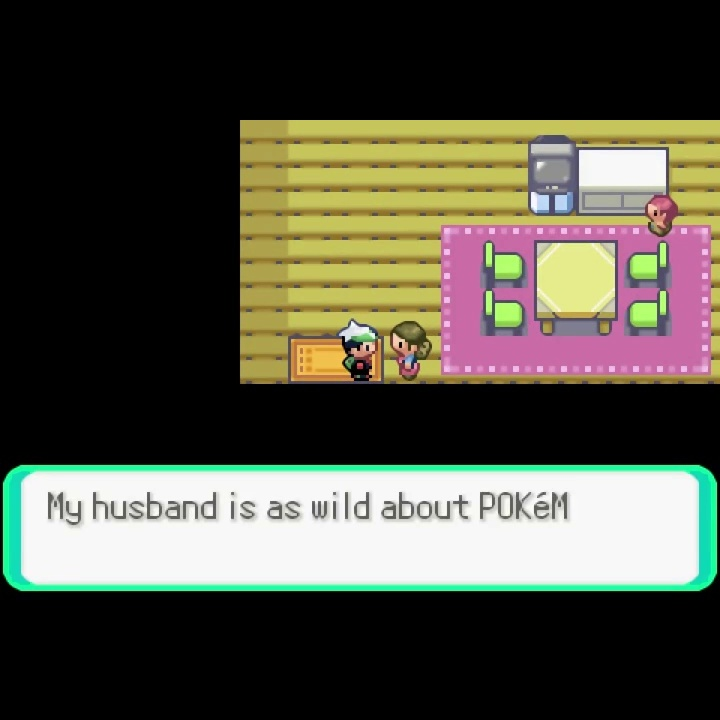exit: (286, 334, 387, 434)
npc: (335, 317, 381, 383), (389, 318, 435, 382), (643, 192, 682, 239)
